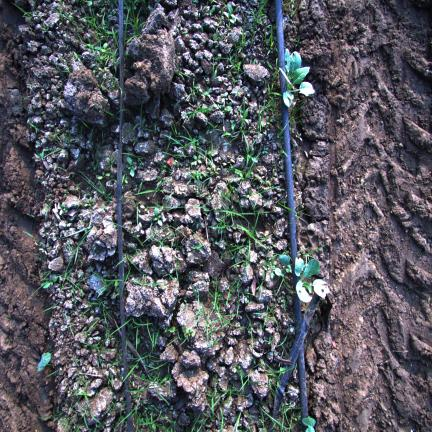crop: (280, 49, 314, 108), (293, 258, 329, 302)
